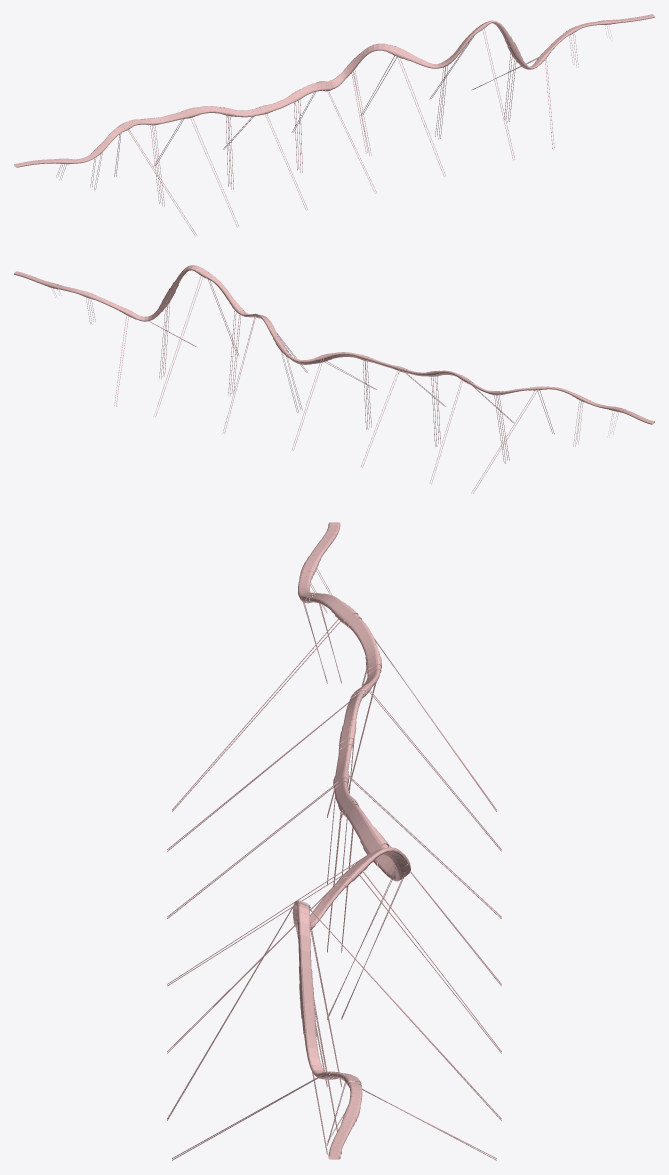
Rendered from structure_sf.glb.
3 views of the same model, one above another, from view 1: azimuth 30°, elevation 25°; view 2: azimuth 150°, elevation 25°; view 3: azimuth 270°, elevation 25° (orthographic). The views are drawn at different scales.
Visible parts, largest first — view 1: n1; view 2: n1; view 3: n1.
Boxes of the visible parts, x1,y1,x2,y2 form: n1: (14,14,654,236); n1: (14,265,654,493); n1: (167,522,501,1160).
Size of the model in its own units: 3700 by 623 by 841.
